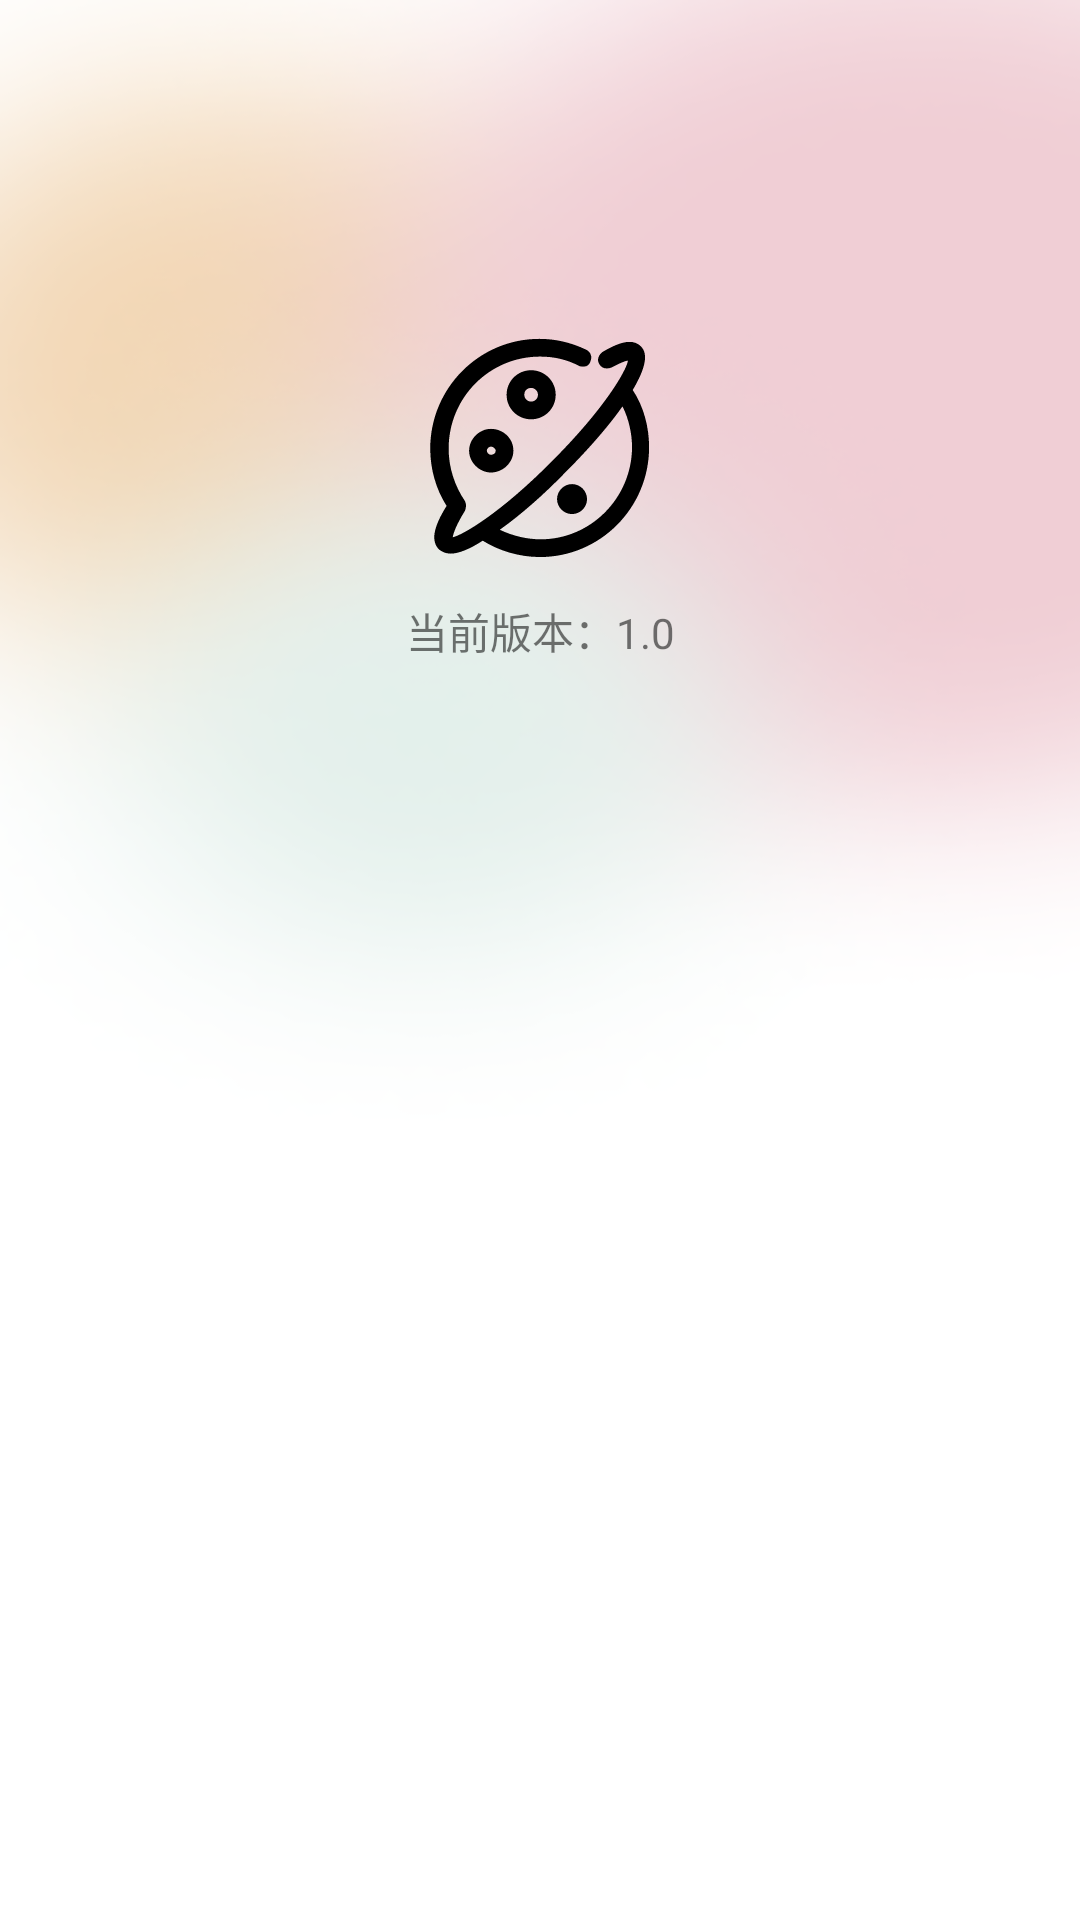

Locate icon controls on the screen. Image size 1080 × 1920, boxes as Rect(x1, y1, x2, y2).
xingzuo: Rect(390, 338, 649, 600)
